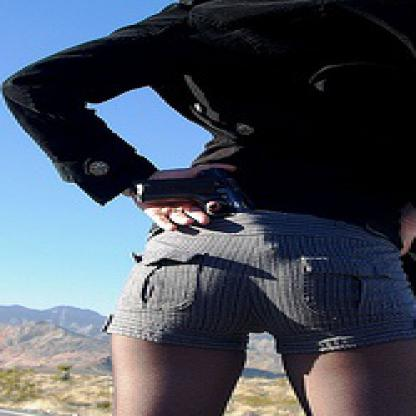gun: (132, 166, 252, 218)
